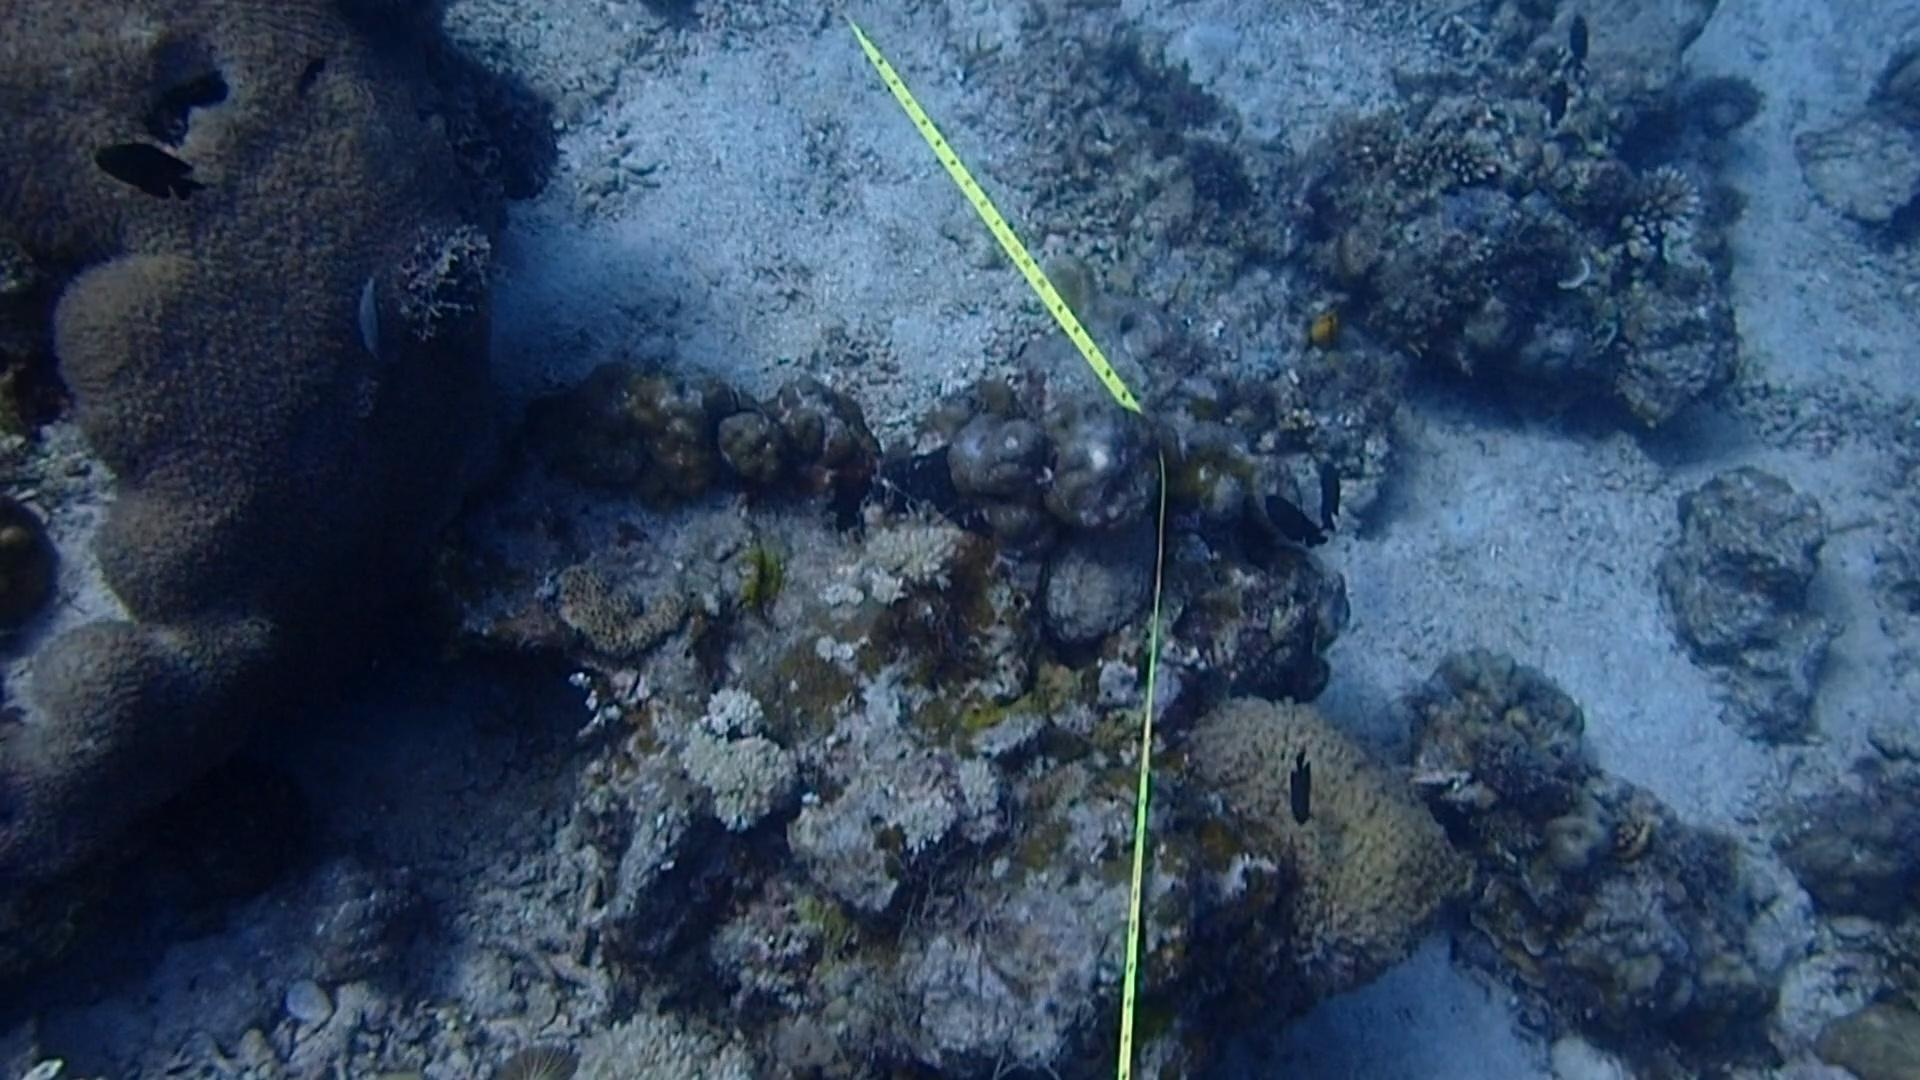Dark Fish: (83, 125, 206, 207), (1249, 479, 1337, 556), (1263, 736, 1327, 829), (1431, 773, 1489, 858), (1303, 460, 1357, 537), (1543, 67, 1585, 144), (285, 46, 334, 108), (1557, 0, 1601, 62)
Light Fish: (353, 277, 397, 363)
